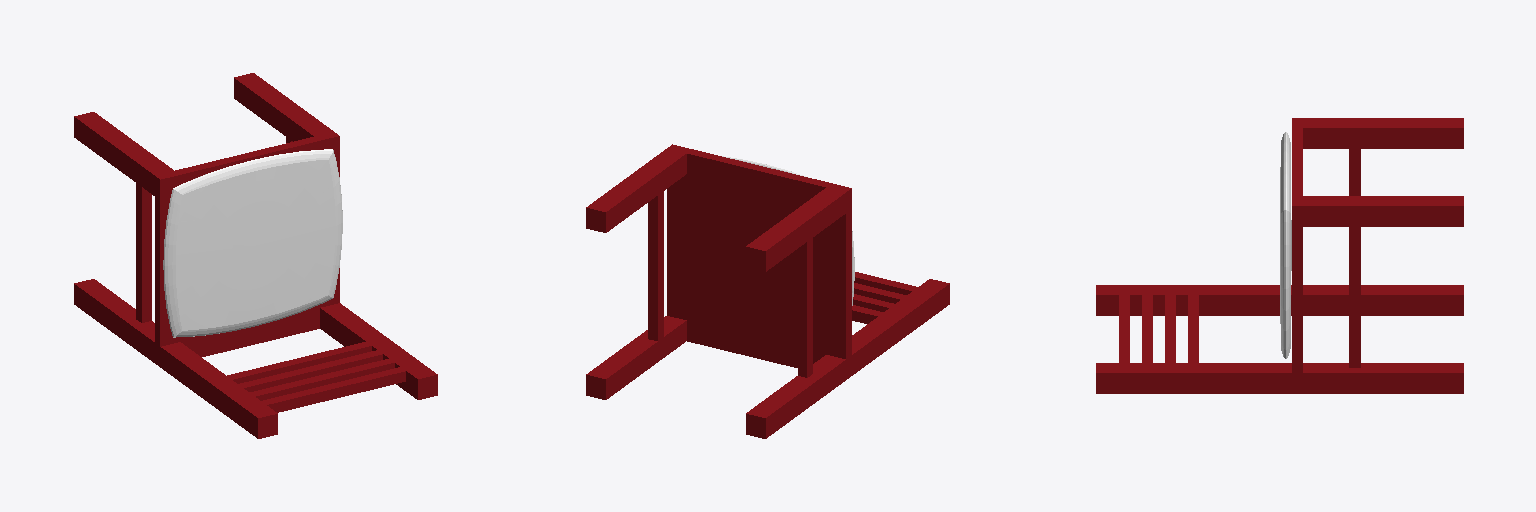
The model's file is tinker.obj.
3 renders of one model, left to right at view 1: azimuth 30°, elevation 25°; view 2: azimuth 150°, elevation 25°; view 3: azimuth 270°, elevation 25°, orthographic.
Visible parts, largest first — view 1: obj_0; view 2: obj_0; view 3: obj_0.
Boxes of the visible parts, box(x1,y1,x2,y2) form: obj_0: box(74, 73, 437, 438); obj_0: box(586, 144, 949, 438); obj_0: box(1096, 118, 1463, 393).
Size of the model in its own units: 18 by 18 by 32.